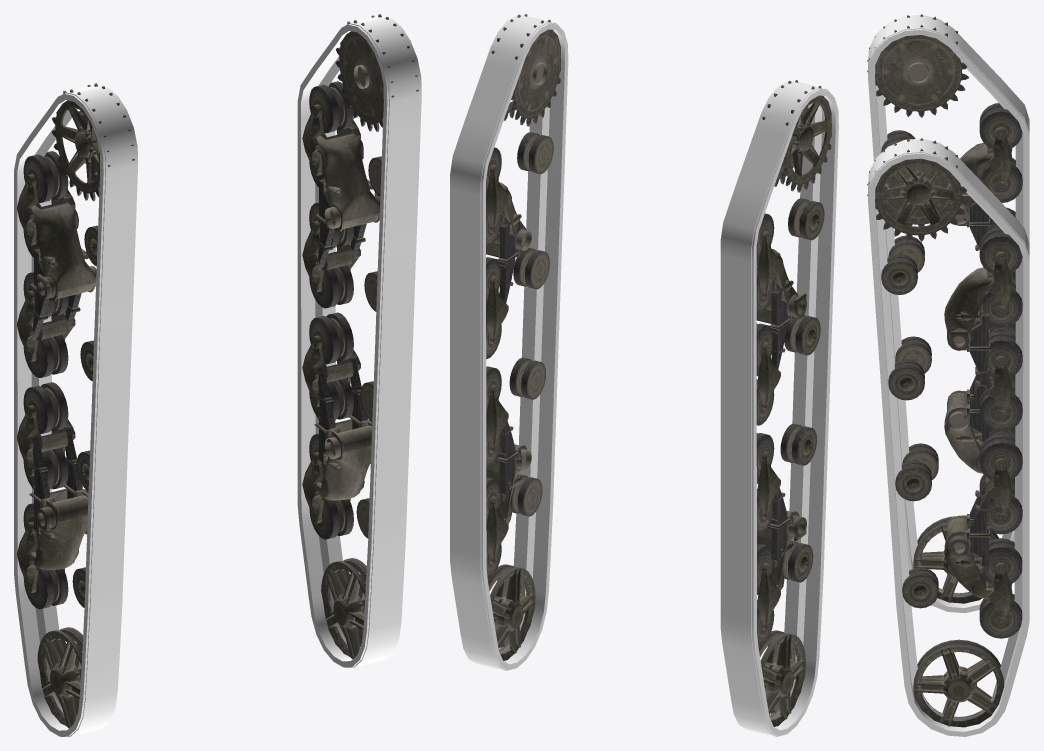
The model's file is Chassis.glb.
3 views of the same model, side by side, from view 1: azimuth 30°, elevation 25°; view 2: azimuth 150°, elevation 25°; view 3: azimuth 270°, elevation 25° (orthographic). The views are drawn at different scales.
Visible parts, largest first — view 1: set_0_group_0, set_1_group_0, set_3_group_0, set_2_group_0; view 2: set_1_group_0, set_0_group_0, set_2_group_0, set_3_group_0; view 3: set_3_group_0, set_2_group_0, set_0_group_0, set_1_group_0.
Part boxes in pixels (x1=…): set_0_group_0: x1=297, y1=16, x2=421, y2=667; set_1_group_0: x1=14, y1=85, x2=138, y2=736; set_3_group_0: x1=302, y1=14, x2=418, y2=658; set_2_group_0: x1=17, y1=83, x2=134, y2=728; set_1_group_0: x1=720, y1=81, x2=838, y2=736; set_0_group_0: x1=450, y1=15, x2=568, y2=670; set_2_group_0: x1=756, y1=80, x2=831, y2=726; set_3_group_0: x1=486, y1=14, x2=561, y2=660; set_3_group_0: x1=867, y1=138, x2=1022, y2=727; set_2_group_0: x1=867, y1=14, x2=1022, y2=603; set_0_group_0: x1=868, y1=138, x2=1029, y2=736; set_1_group_0: x1=868, y1=15, x2=1029, y2=613.
Size of the model in its own units: 2.44 by 4.49 by 1.13.
4 materials, 2 textured.
